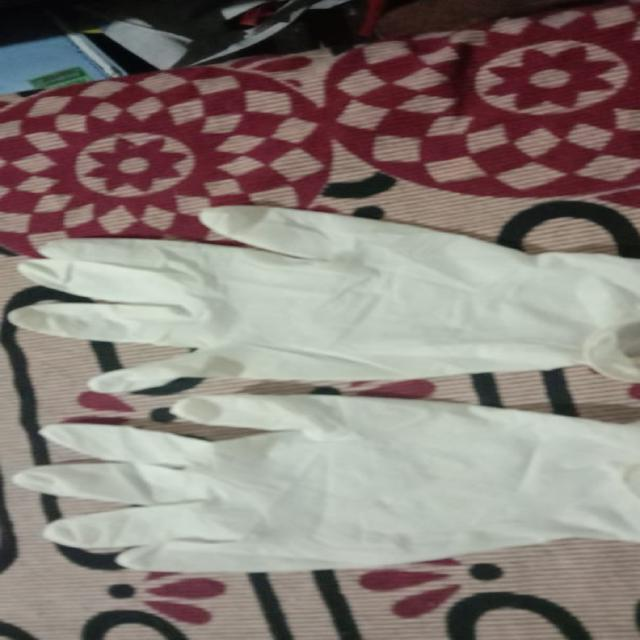gloved_hand: (5, 197, 640, 399), (10, 386, 635, 581)
